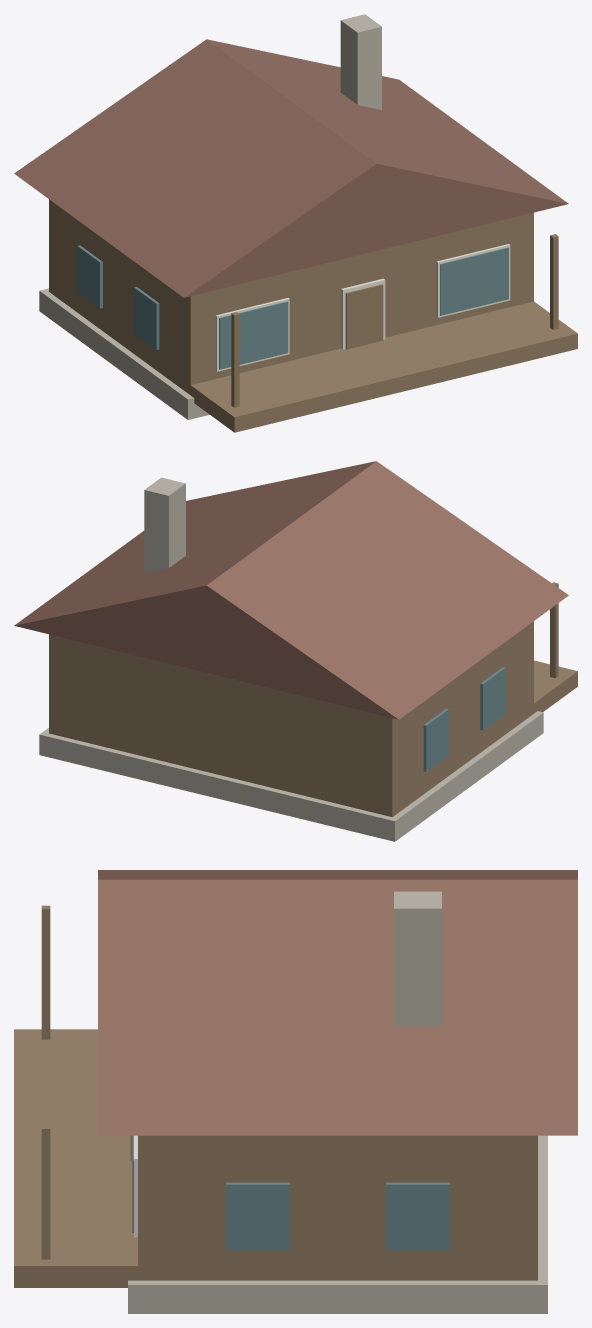
3 views of the same model, one above another, from view 1: azimuth 30°, elevation 25°; view 2: azimuth 150°, elevation 25°; view 3: azimuth 270°, elevation 25° (orthographic). The views are drawn at different scales.
Size of the model in its own units: 15.7 by 9.9 by 14.1.
